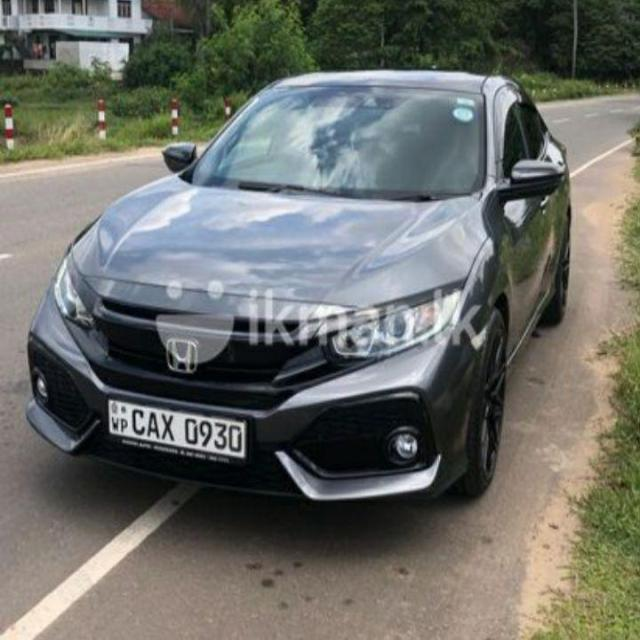license-plate: (104, 395, 245, 462)
